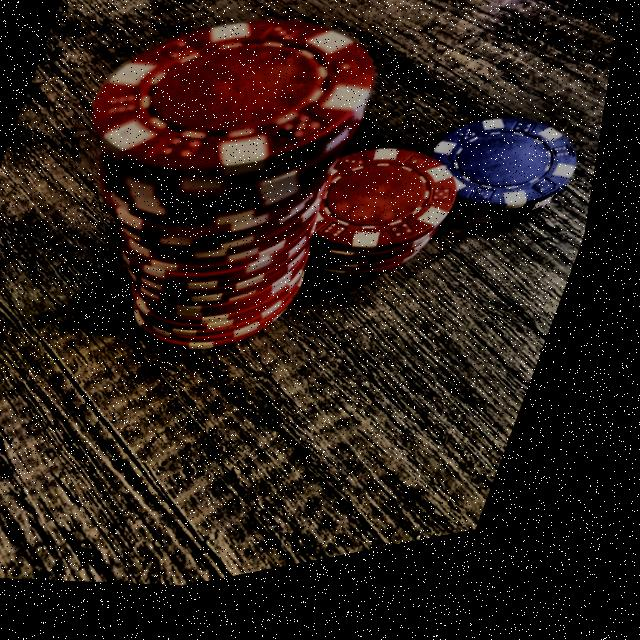Chip: (6, 0, 412, 410), (289, 136, 486, 323), (412, 108, 607, 274)
